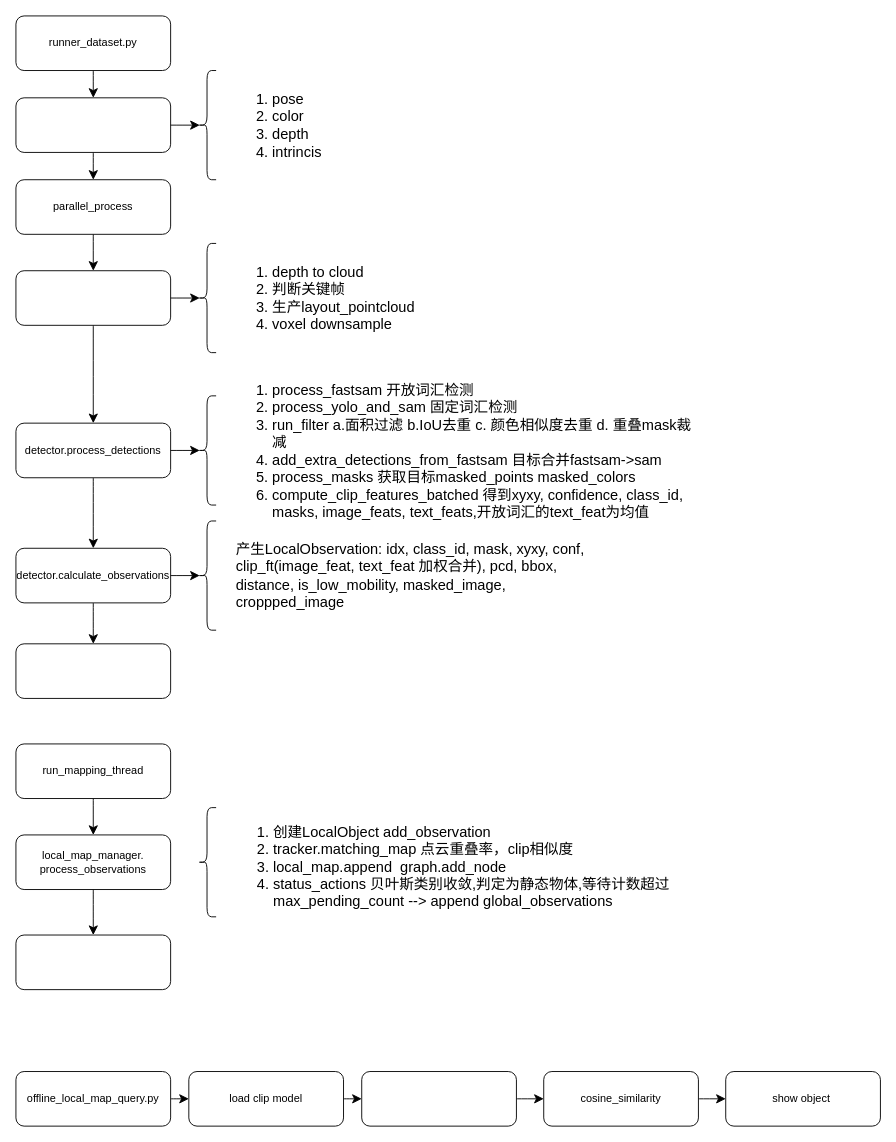
Image size: 896x1142. Some labels were removed from this diagram. The shapes that lost their labels are listed below. From the top down, each one's centre as x and y in pixels, then its label:
At (93,124): "dataset_initialization".
At (93,297): "detector.set_data_input".
At (93,670): "put detection_results_queue".
At (93,962): "global_map_manager. process_observations".
At (438,1098): "text_query".
